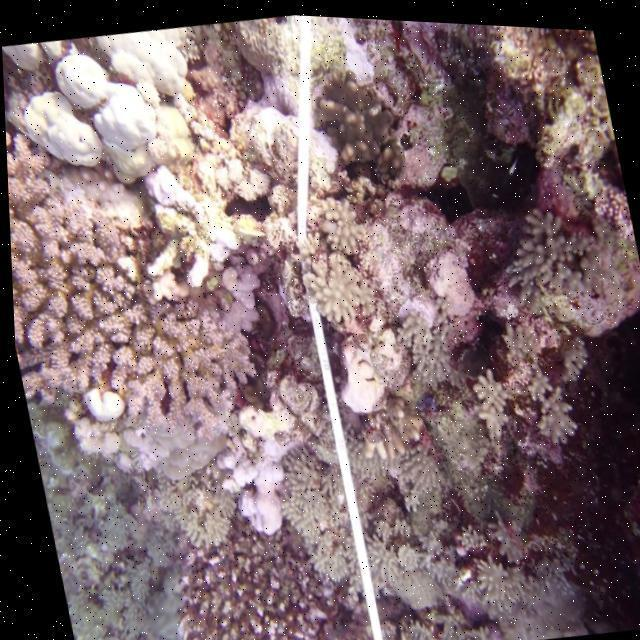Bleached Coral: (1, 18, 217, 240), (192, 388, 328, 560), (50, 357, 172, 473), (322, 311, 404, 430)
